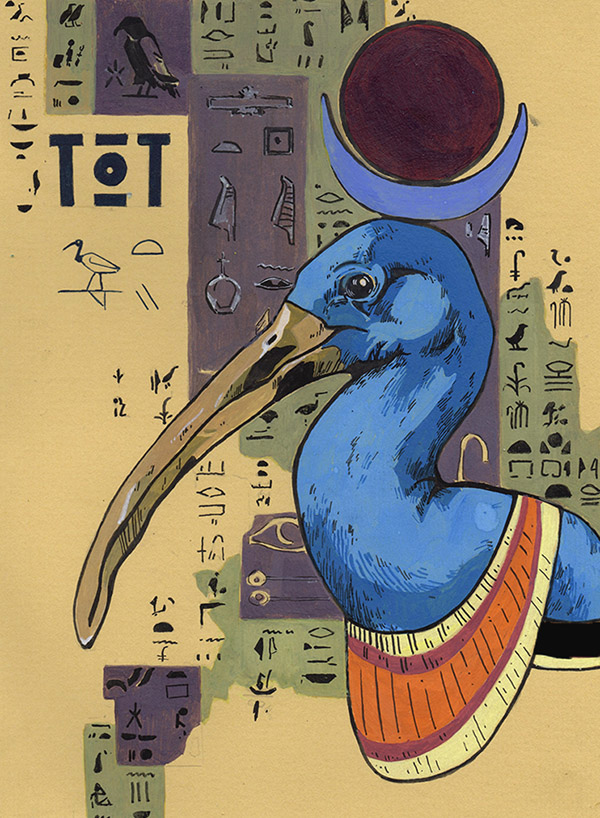bird: (64, 202, 600, 791), (108, 14, 189, 102), (64, 233, 124, 287)
